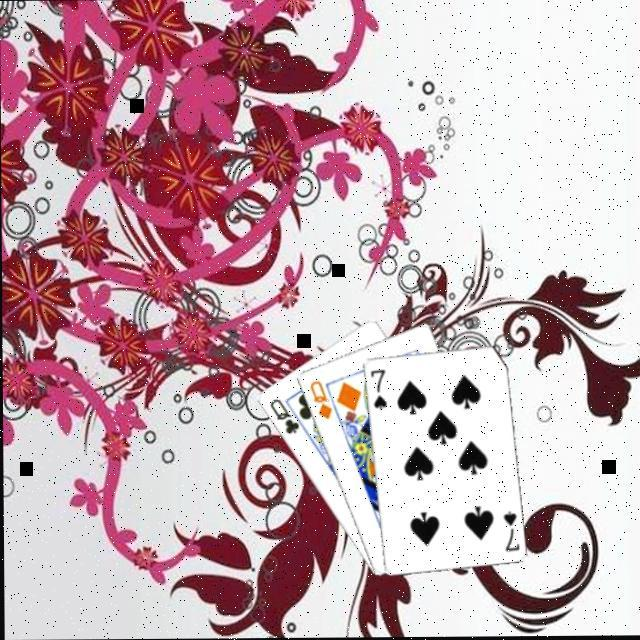7S: (368, 364, 391, 411), (501, 507, 523, 552)
QC: (268, 394, 304, 436)
QD: (308, 376, 336, 420)
